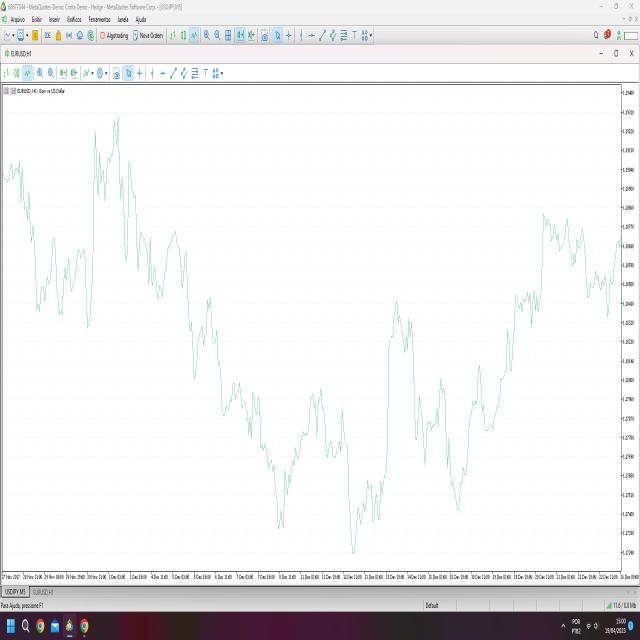bandeira_alta: (508, 275, 544, 382)
oco_inv: (258, 231, 480, 564)
